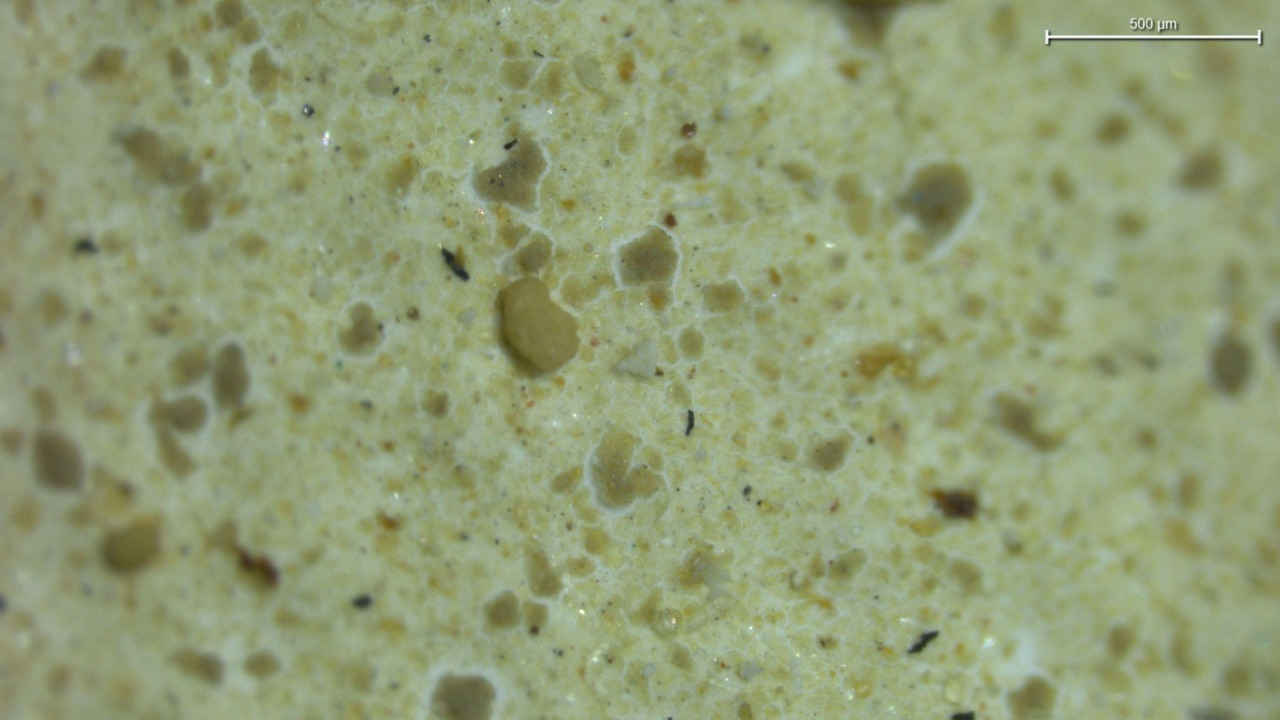microplastic_fragment: (497, 277, 579, 371)
